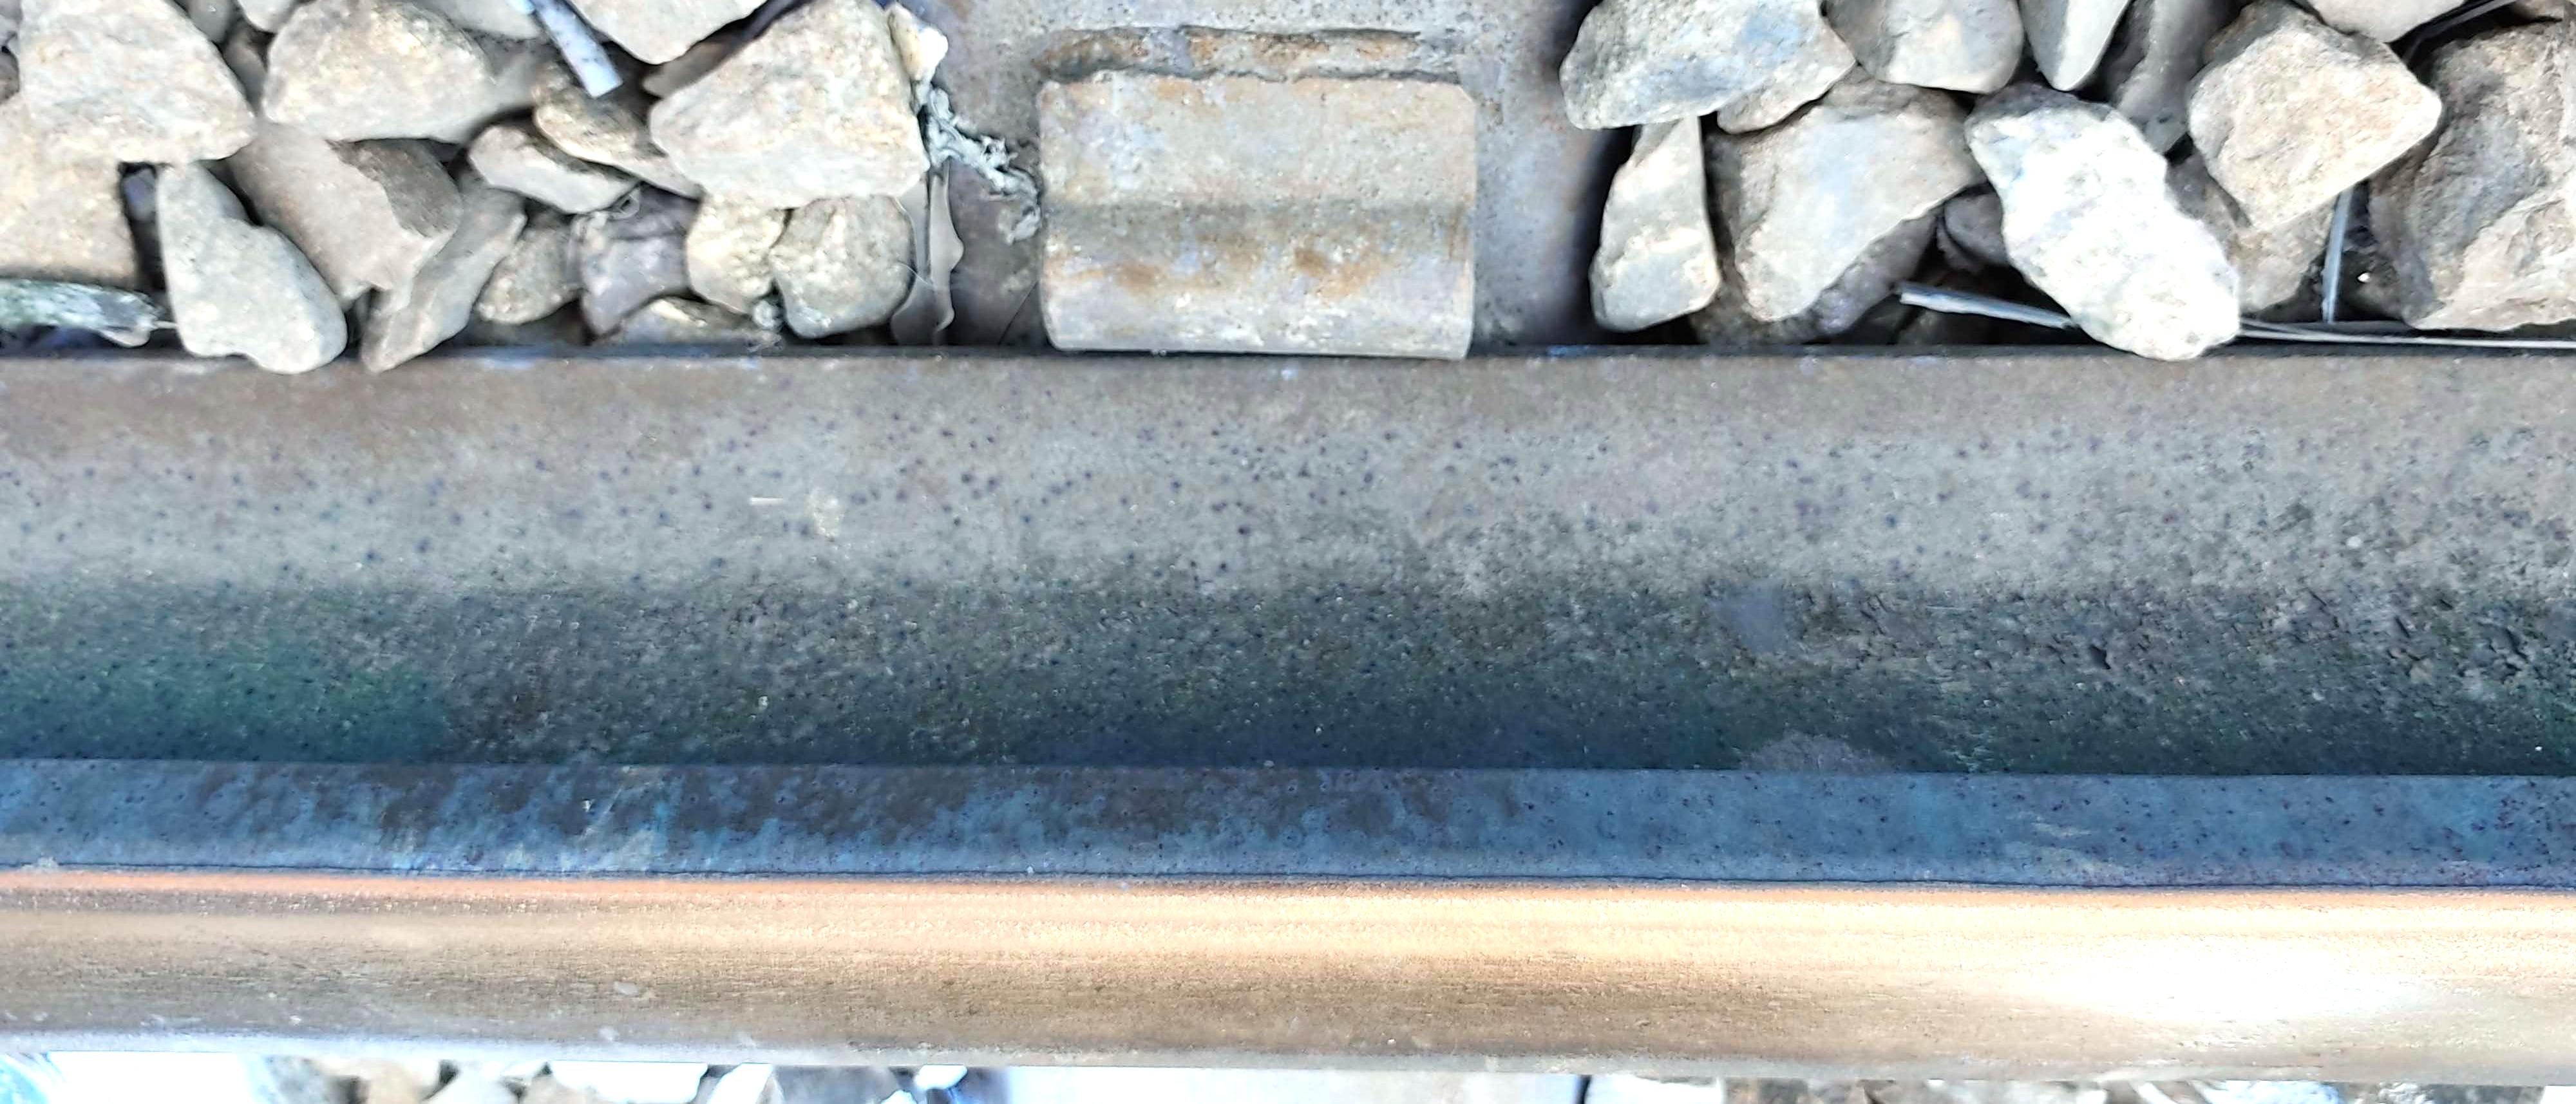error1: (987, 58, 1510, 399)
